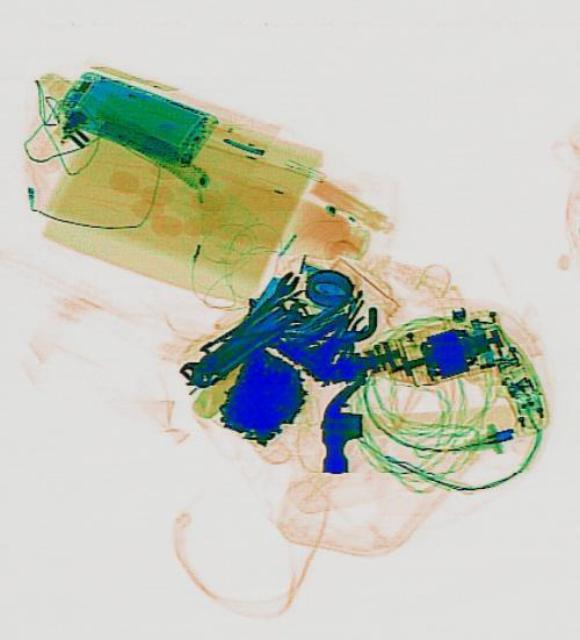Wrench: (223, 266, 301, 342), (174, 332, 237, 386)
